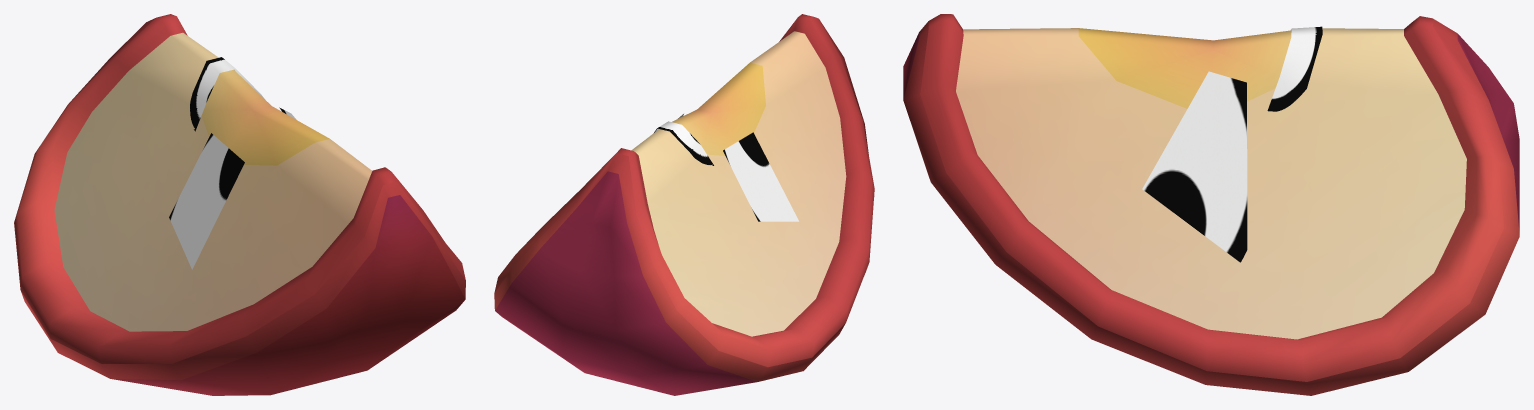
The model's file is apple_piece_smile.fbx.
The picture shows the model from 3 angles, left to right: view 1: azimuth 30°, elevation 25°; view 2: azimuth 150°, elevation 25°; view 3: azimuth 270°, elevation 25°; orthographic projection. The views are drawn at different scales.
Visible parts, largest first — view 1: apple_piece; view 2: apple_piece; view 3: apple_piece.
Part boxes in pixels (x1,y1,x2,y2): apple_piece: [14, 14, 465, 395]; apple_piece: [494, 14, 874, 395]; apple_piece: [903, 14, 1519, 395].
Bounding box in the file's own units: 18.98 × 26.19 × 15.98.
